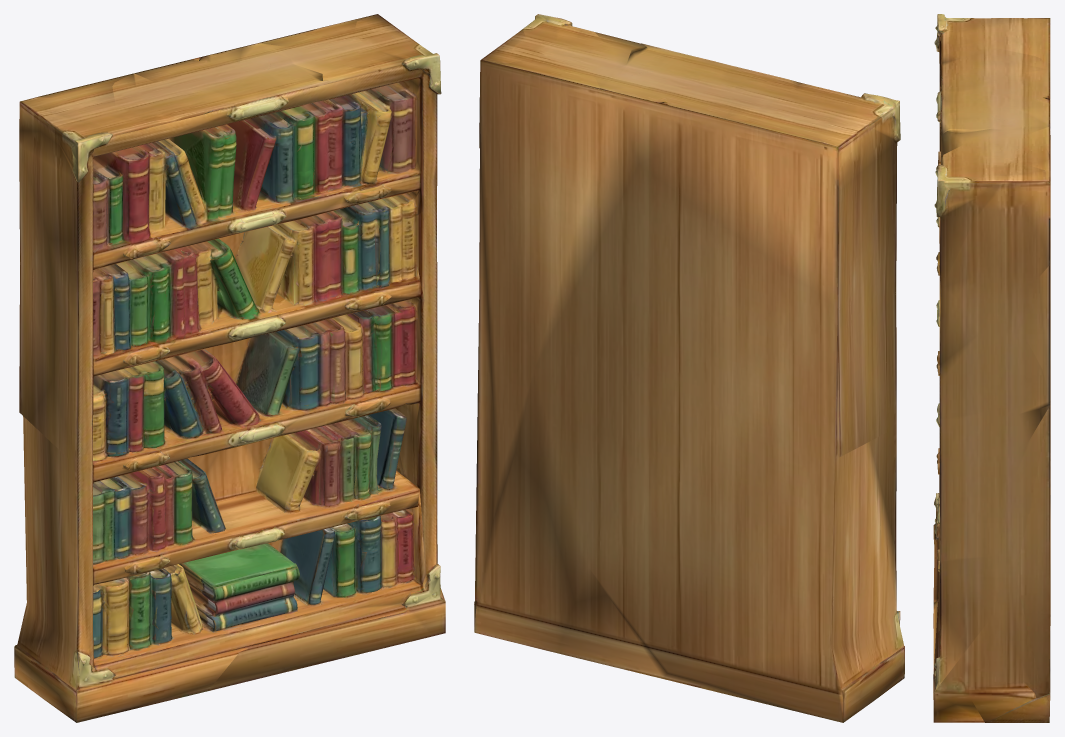
File: bookshelf.glb
3 views of the same model, side by side, from view 1: azimuth 30°, elevation 25°; view 2: azimuth 150°, elevation 25°; view 3: azimuth 270°, elevation 25° (orthographic). The views are drawn at different scales.
Visible parts, largest first — view 1: Mesh_0; view 2: Mesh_0; view 3: Mesh_0.
Boxes of the visible parts, bbox=[...] form: Mesh_0: bbox=[14, 14, 445, 722]; Mesh_0: bbox=[474, 14, 904, 722]; Mesh_0: bbox=[933, 14, 1050, 722].
Size of the model in its own units: 1.28 by 1.91 by 0.374.
Materials: 1 (1 with a texture image).
